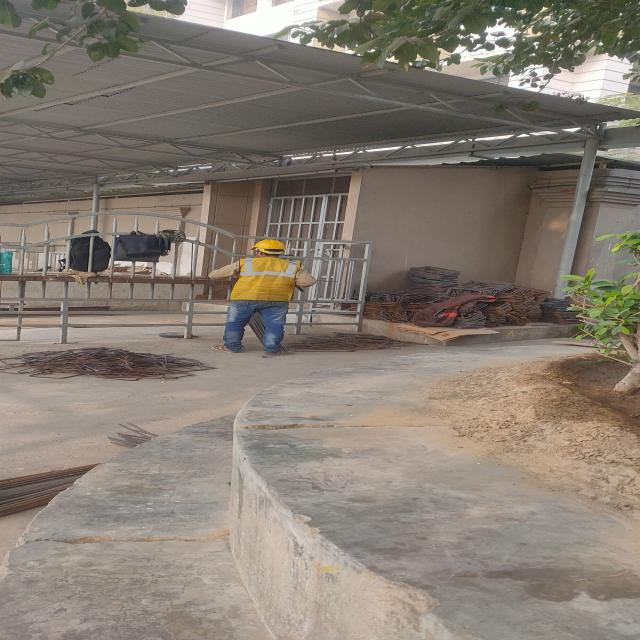safe: (219, 238, 310, 356)
